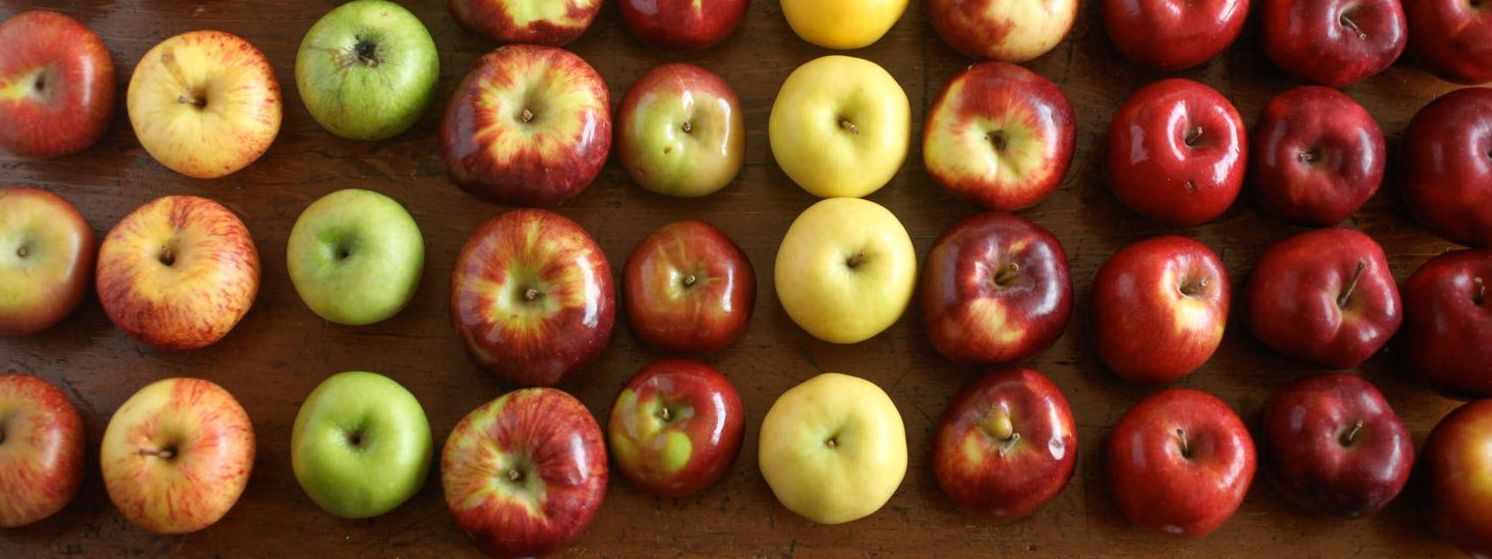apple: (442, 210, 622, 383), (442, 44, 619, 203), (441, 391, 607, 556), (97, 191, 262, 353), (99, 380, 256, 536), (757, 371, 916, 525), (924, 368, 1084, 521), (126, 29, 285, 182), (1101, 391, 1258, 544), (281, 371, 437, 524), (1243, 230, 1403, 374), (923, 213, 1074, 365), (1088, 233, 1237, 386), (1264, 380, 1418, 524), (770, 203, 922, 348), (765, 52, 914, 199), (923, 63, 1077, 202), (278, 188, 428, 330), (1106, 80, 1250, 225), (291, 5, 443, 142), (608, 364, 747, 502), (1254, 86, 1391, 224), (619, 60, 749, 201), (627, 218, 758, 357)
